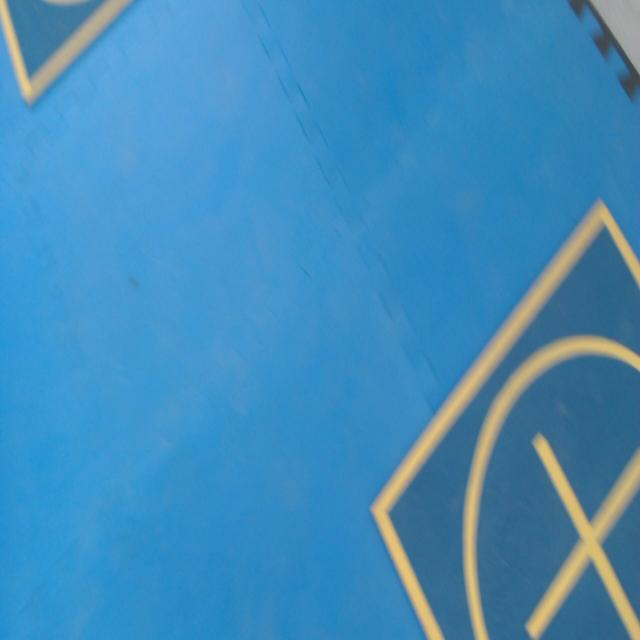base_pouso: (371, 200, 640, 639), (0, 0, 134, 109)
